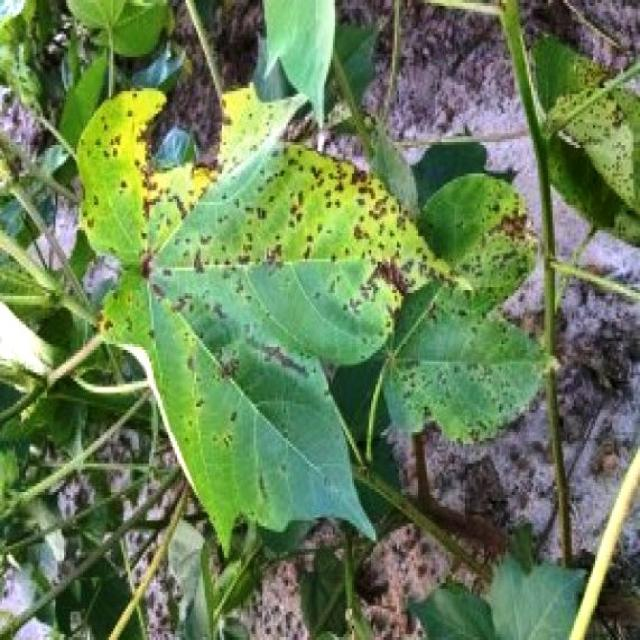Bacterial Blight: (135, 131, 459, 354)
